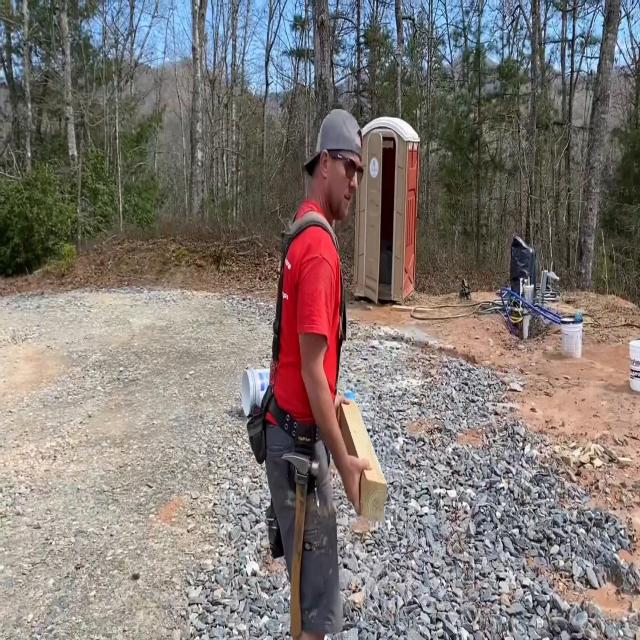hammer: (280, 448, 324, 640)
